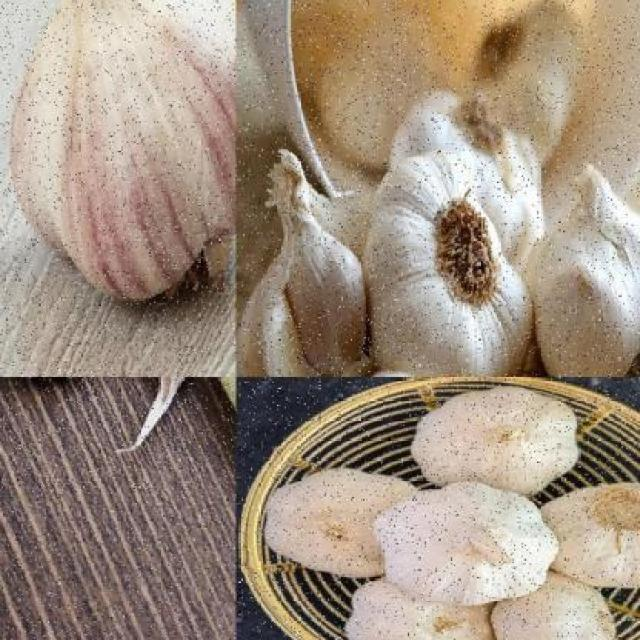garlic: (7, 0, 235, 303), (362, 146, 533, 377), (236, 161, 369, 376), (516, 159, 638, 376), (376, 482, 556, 602), (409, 382, 580, 496), (260, 466, 422, 580), (514, 484, 638, 592), (344, 576, 504, 639), (498, 573, 620, 639)
